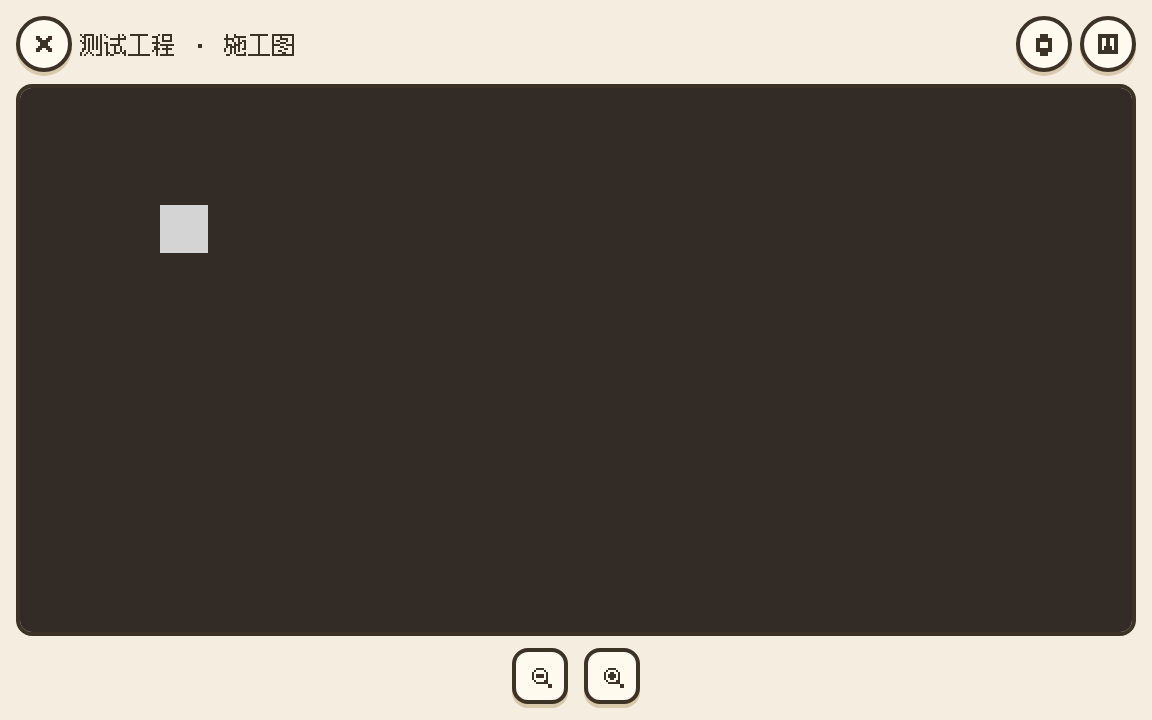
Test: SheetViewer 的覆盖层层级与滚动锁（T1） › 打印面板也是 body 的直接子节点且 z 序更高；先关打印不解锁，关掉查看层才解锁
Note: 查看层的按钮也挂在 body 里，所以这里同样要从 body 上点。
What coordinates should you click on to do the following:
click the button with test id "sheet-print"
I would click on:
 (1044, 44)
Its box is [1016,16,1072,72].
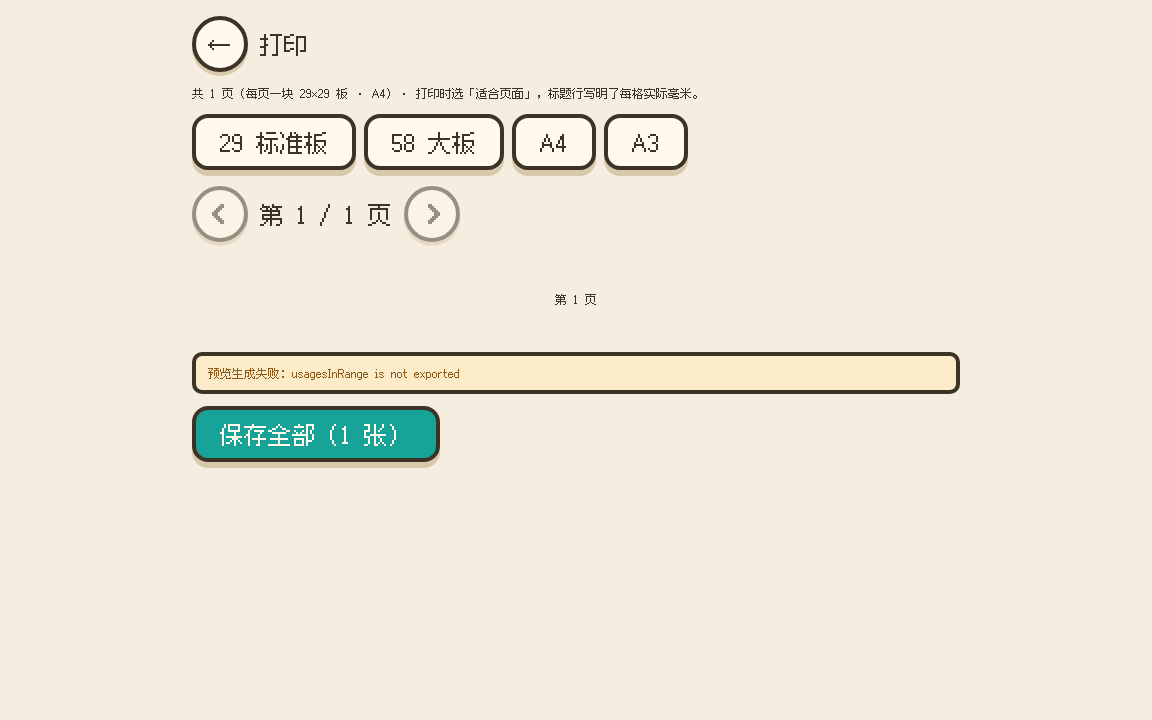
What coordinates should you click on to do the following:
click the button with test id "export-close"
I would click on:
 (220, 44)
Its box is [192,16,248,72].
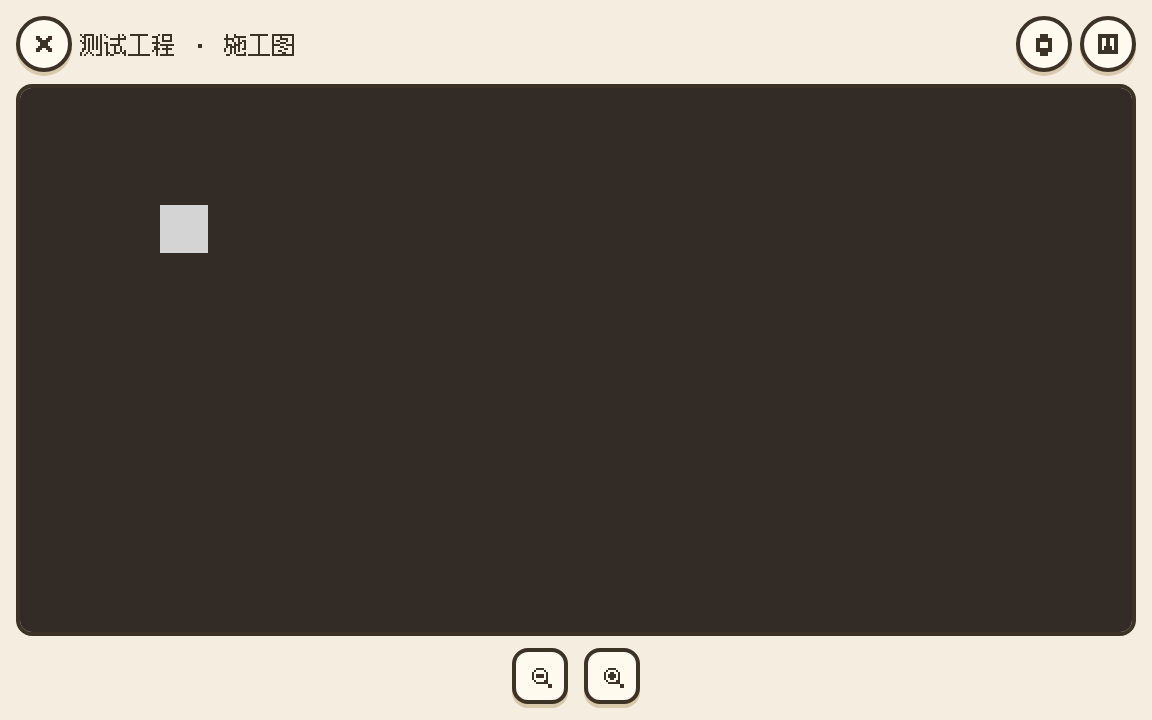
Result: the element with test id "export-panel" is gone
